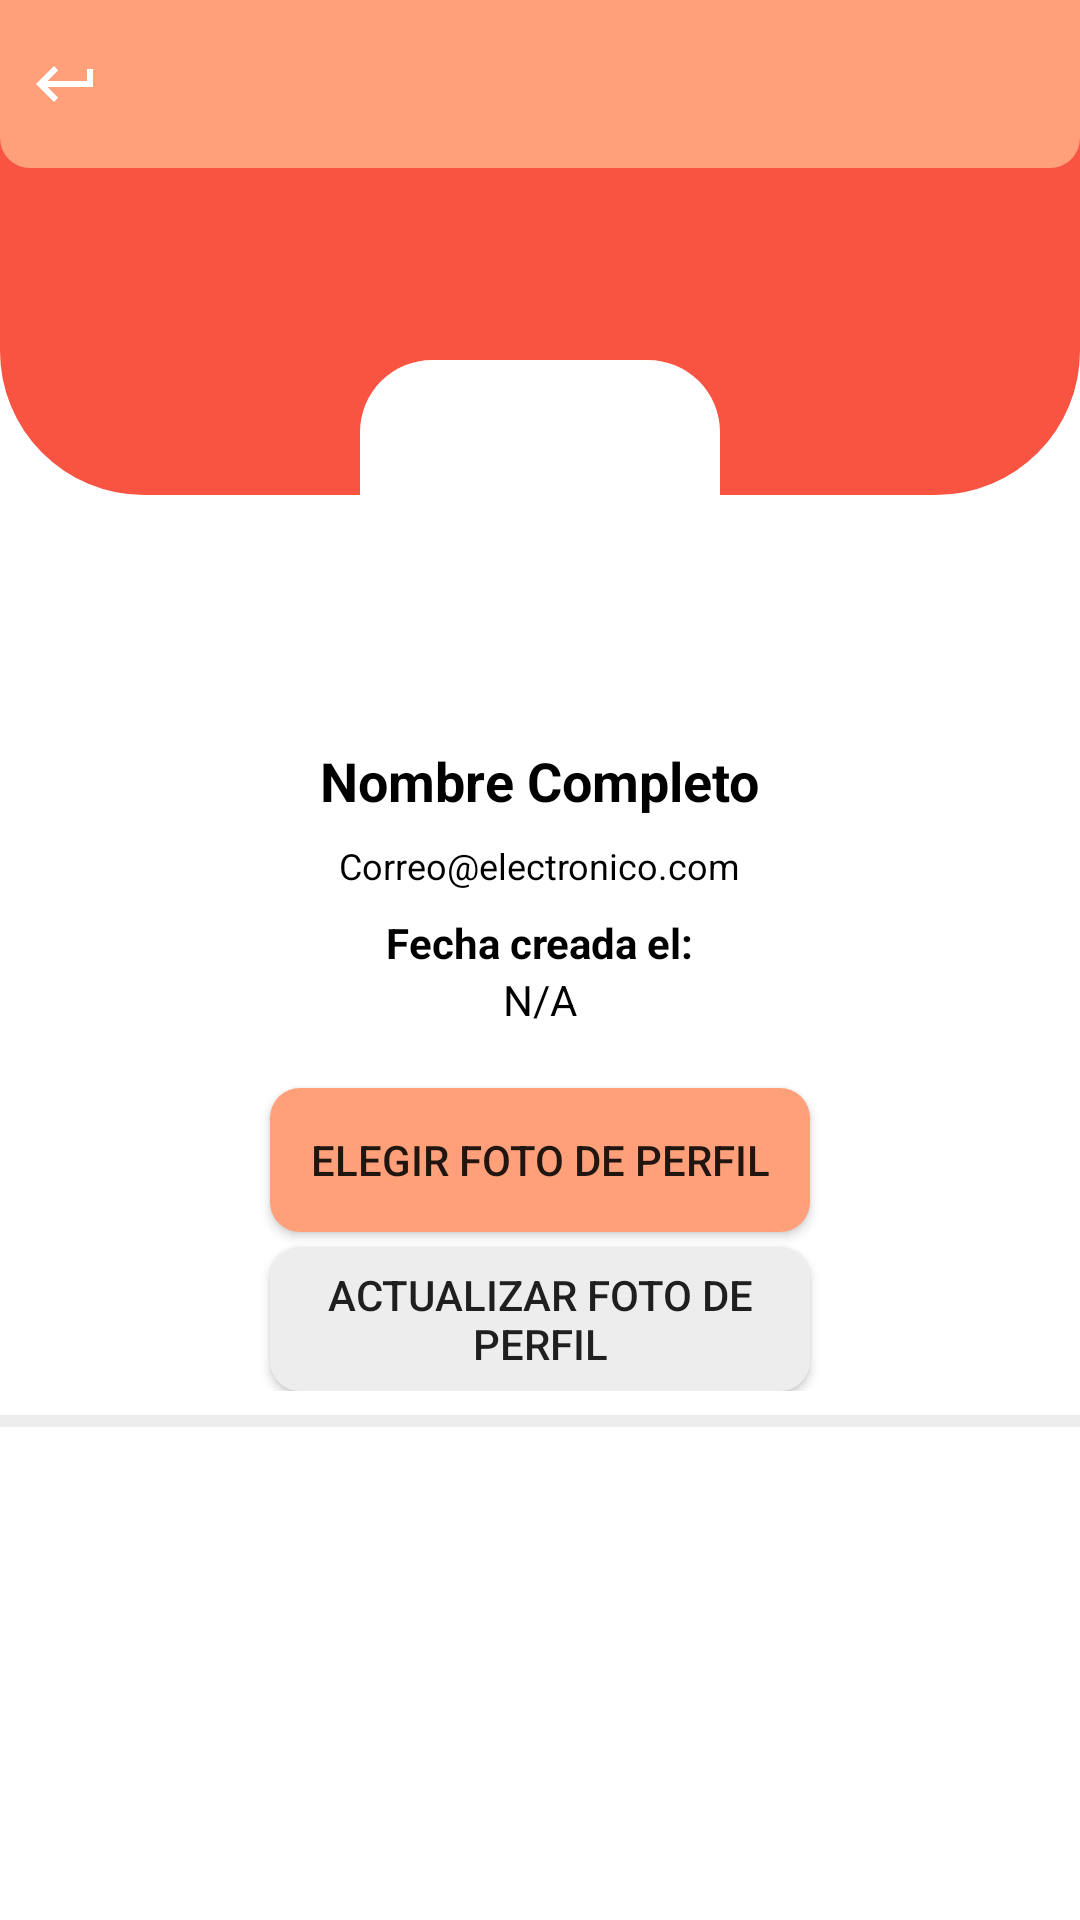

Where icons sit on this 1080*1920 app screen, as BBox(x1, y1, x2, y2):
return: BBox(36, 66, 93, 102)
